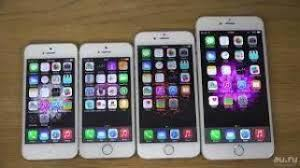iphone: (190, 14, 280, 161), (134, 29, 202, 162), (77, 40, 136, 160), (22, 39, 77, 161)
